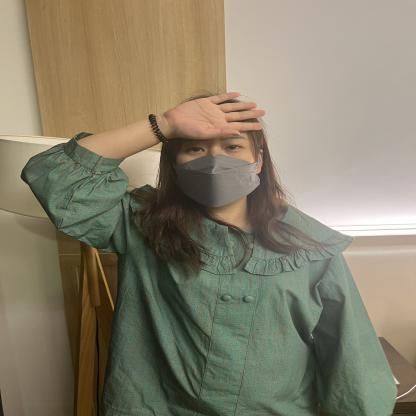Sick: (76, 80, 332, 162)
